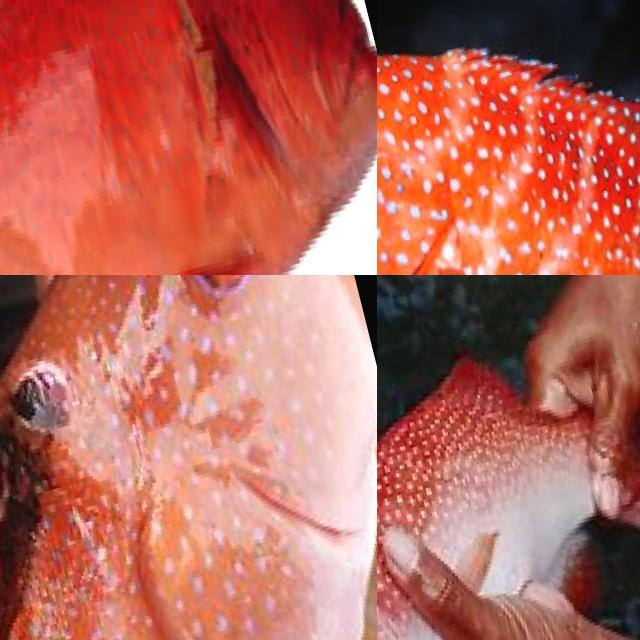Plectropomus-leopardus: (0, 275, 377, 640), (0, 0, 377, 275), (377, 288, 640, 640), (377, 0, 640, 275)
